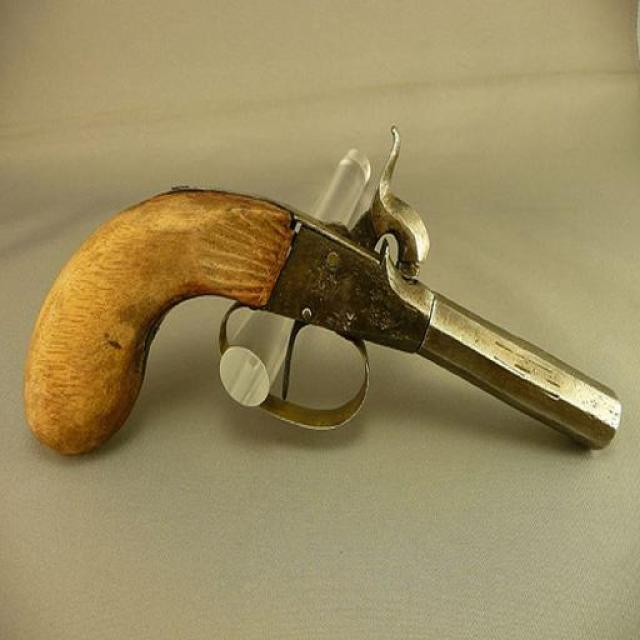pistol: (22, 120, 625, 467)
